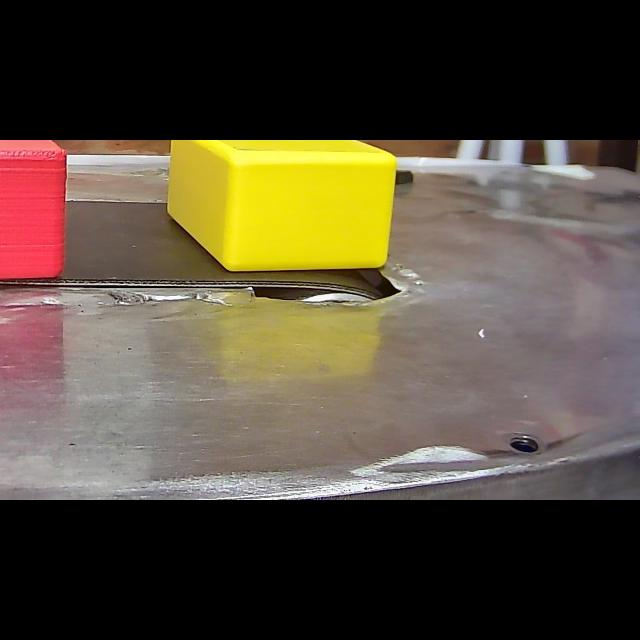redBox: (0, 140, 82, 298)
yellowBox: (164, 140, 412, 284)
